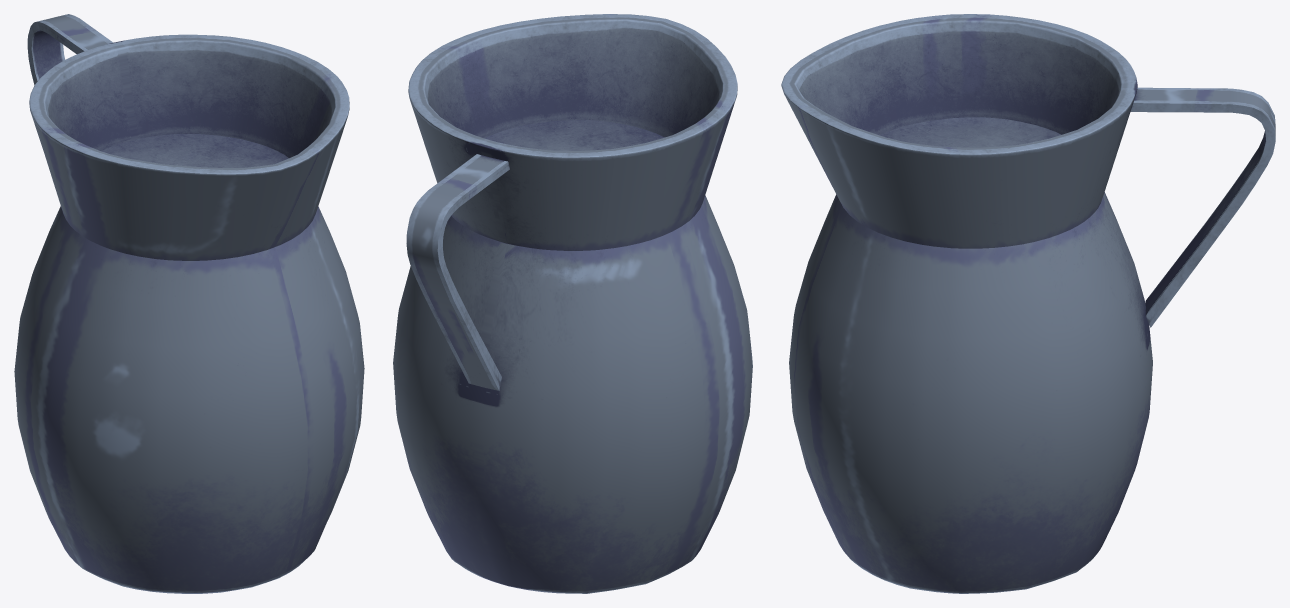
File: Hot_Chocolate_Maker_Textured 1.fbx
The picture shows the model from 3 angles, left to right: view 1: azimuth 30°, elevation 25°; view 2: azimuth 150°, elevation 25°; view 3: azimuth 270°, elevation 25°; orthographic projection. The views are drawn at different scales.
Parts seen in each view (by area): view 1: PR_HotChocolateMaker; view 2: PR_HotChocolateMaker; view 3: PR_HotChocolateMaker.
Boxes of the visible parts, x1,y1,x2,y2 form: PR_HotChocolateMaker: [14, 14, 364, 593]; PR_HotChocolateMaker: [393, 14, 752, 593]; PR_HotChocolateMaker: [781, 14, 1275, 593].
Size of the model in its own units: 68.71 by 95.73 by 93.59.
Materials: 1 (1 with a texture image).
